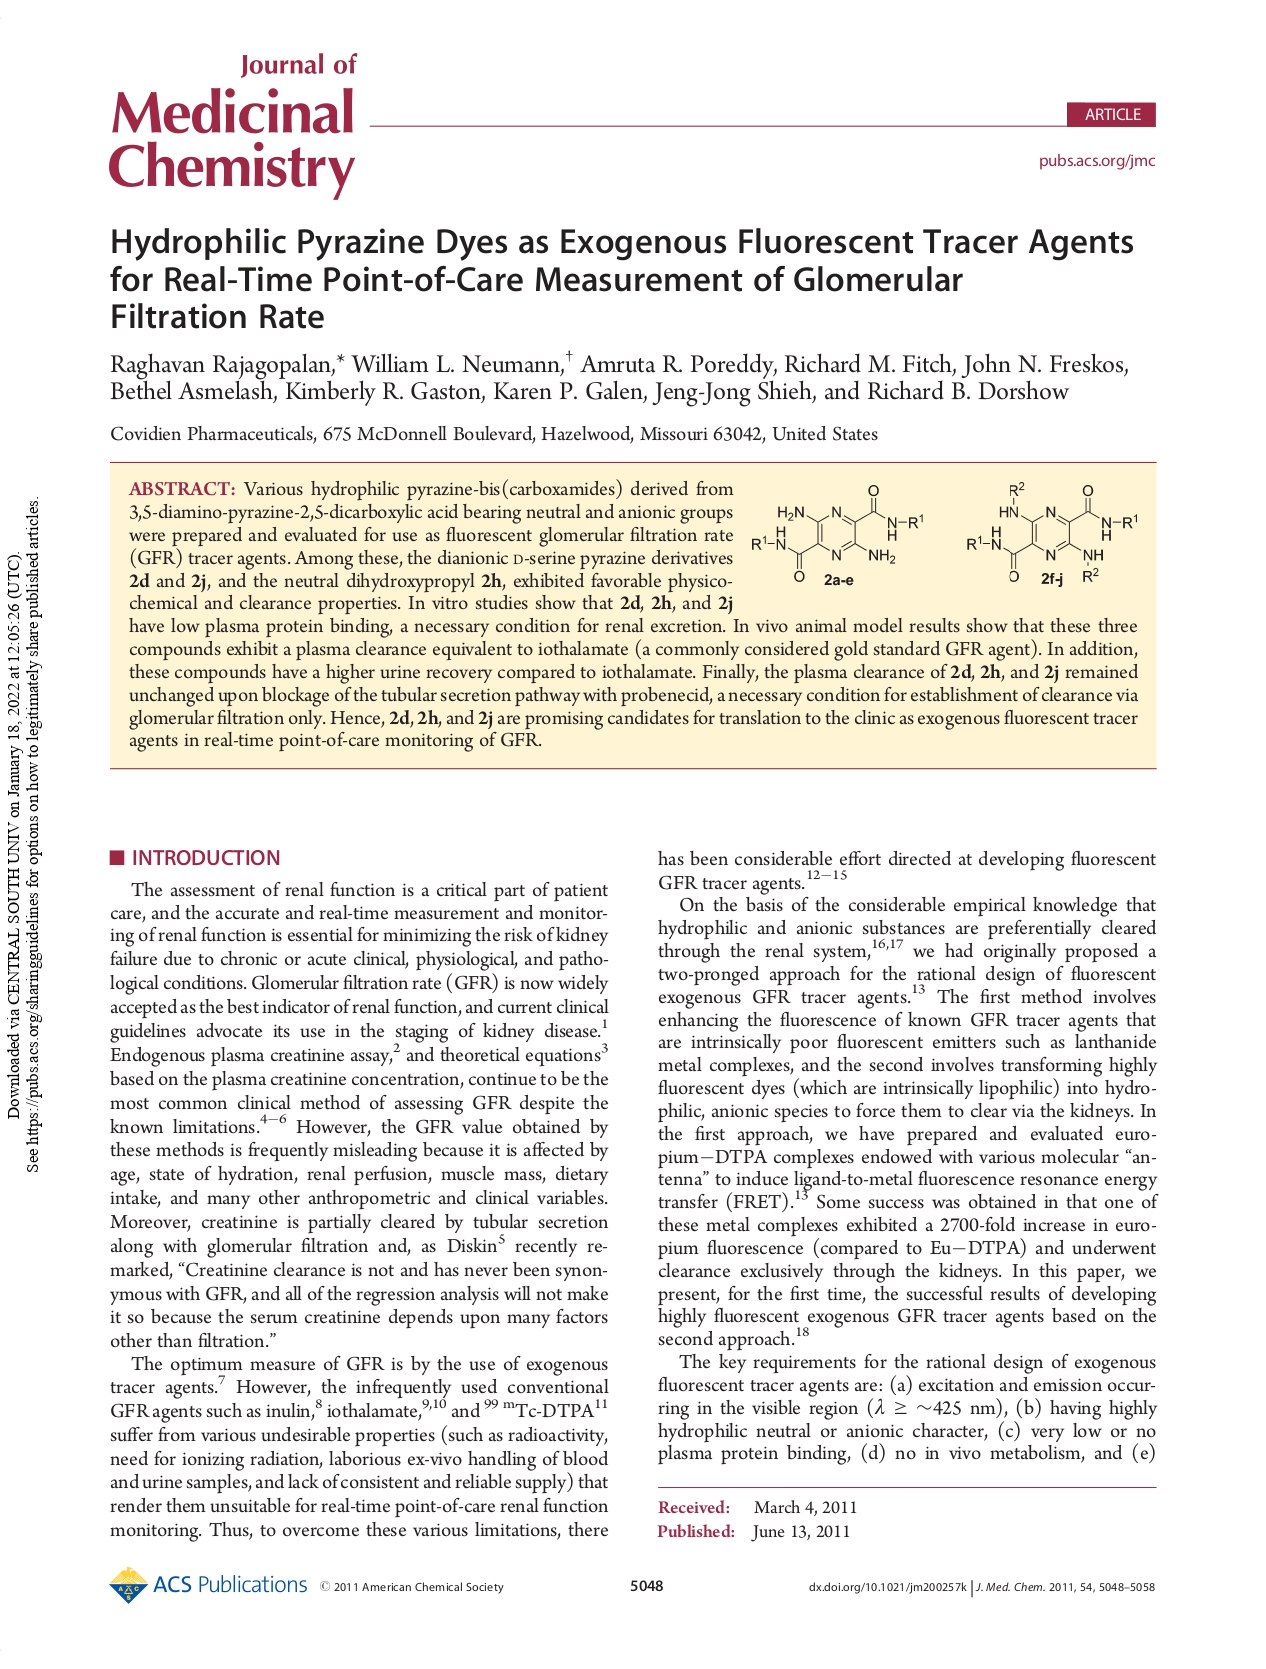exist_molecular: (964, 477, 1141, 585), (749, 481, 926, 584)
